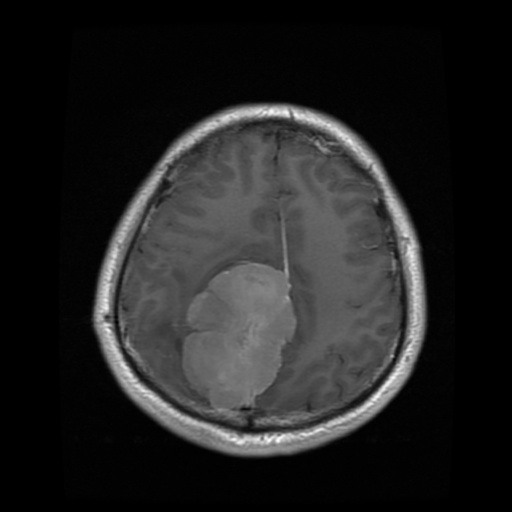meningioma: (183, 261, 297, 406)
